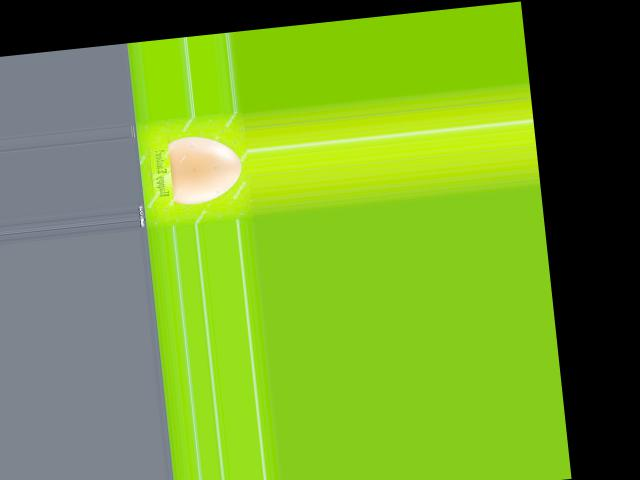egg: (167, 132, 244, 205)
